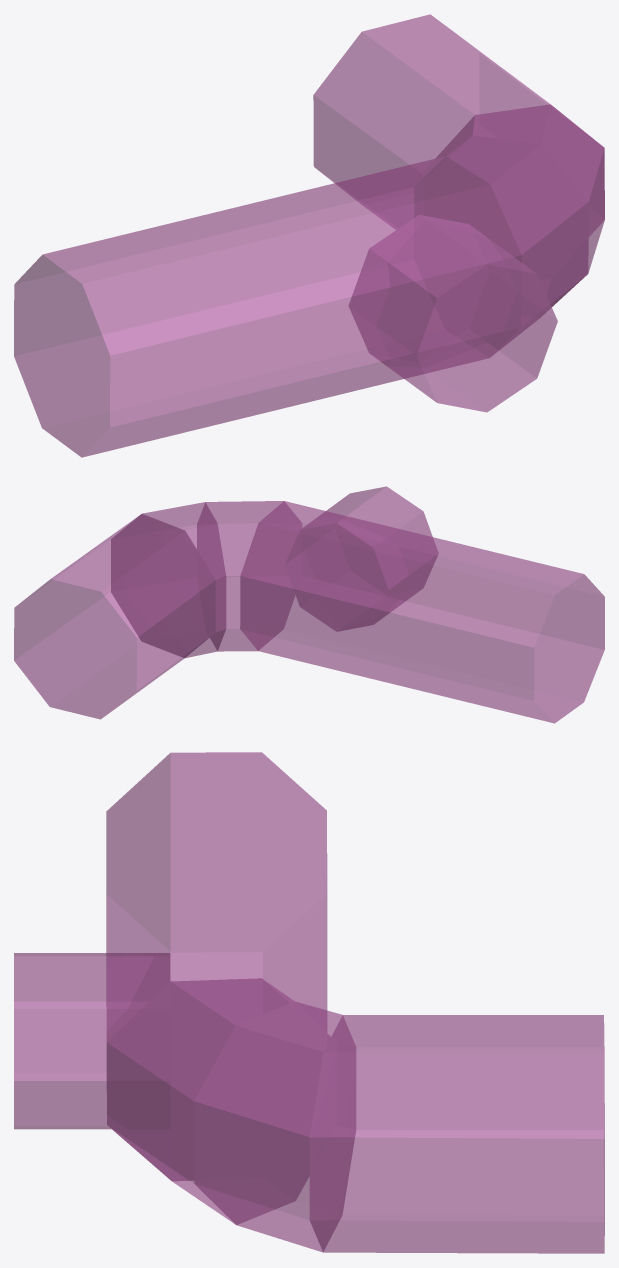
File: SM_Bld_Pipe_Small_End_01_Collision.fbx
3 views of the same model, one above another, from view 1: azimuth 30°, elevation 25°; view 2: azimuth 150°, elevation 25°; view 3: azimuth 270°, elevation 25° (orthographic). The views are drawn at different scales.
Visible parts, largest first — view 1: SM_Bld_Pipe_Small_End_01_Collision; view 2: SM_Bld_Pipe_Small_End_01_Collision; view 3: SM_Bld_Pipe_Small_End_01_Collision.
Part boxes in pixels (x1,y1,x2,y2): SM_Bld_Pipe_Small_End_01_Collision: [14, 14, 604, 457]; SM_Bld_Pipe_Small_End_01_Collision: [14, 486, 604, 723]; SM_Bld_Pipe_Small_End_01_Collision: [14, 752, 604, 1253].
Size of the model in its own units: 179 by 50.92 by 136.
